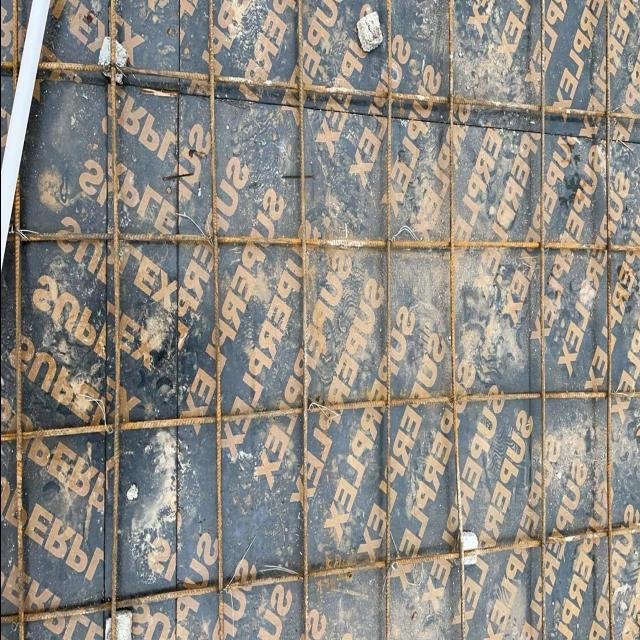ribbed bar: (1, 525, 640, 631), (1, 58, 640, 124), (1, 381, 640, 444), (440, 1, 466, 640), (5, 232, 640, 256), (207, 1, 225, 640), (296, 1, 310, 640), (10, 1, 24, 640), (382, 1, 394, 640), (108, 1, 120, 640), (604, 1, 614, 640), (539, 1, 546, 640)
